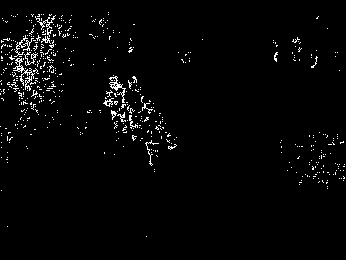person: (141, 102, 176, 170), (124, 73, 146, 145), (106, 76, 127, 138)
